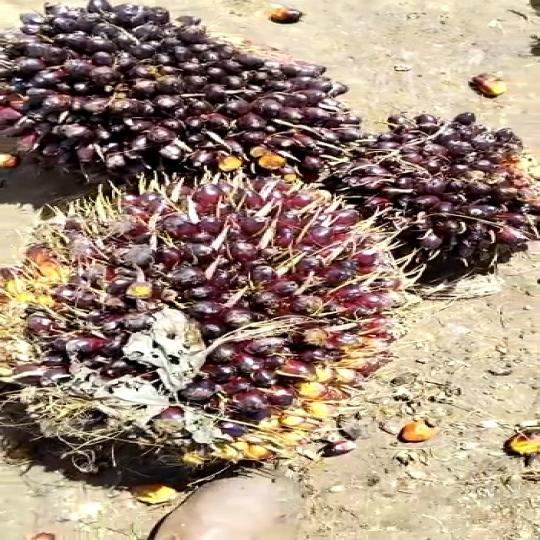mentah: (0, 163, 423, 486), (0, 0, 362, 189), (340, 109, 532, 272)
